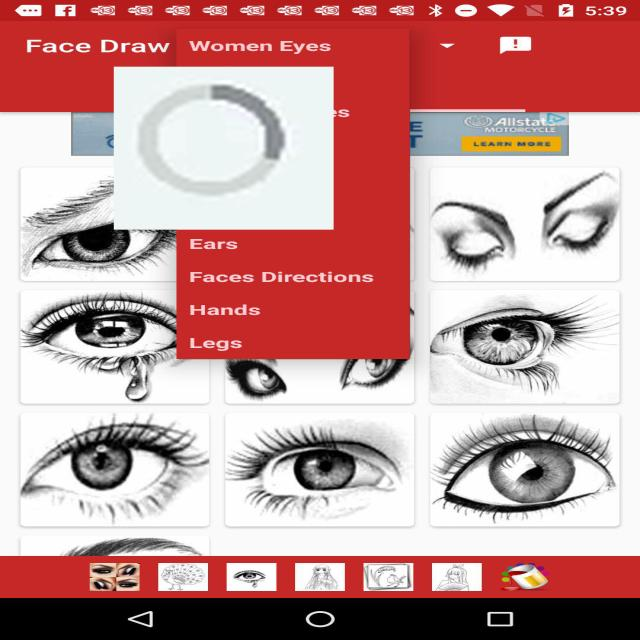misdirection: (114, 66, 334, 230)
